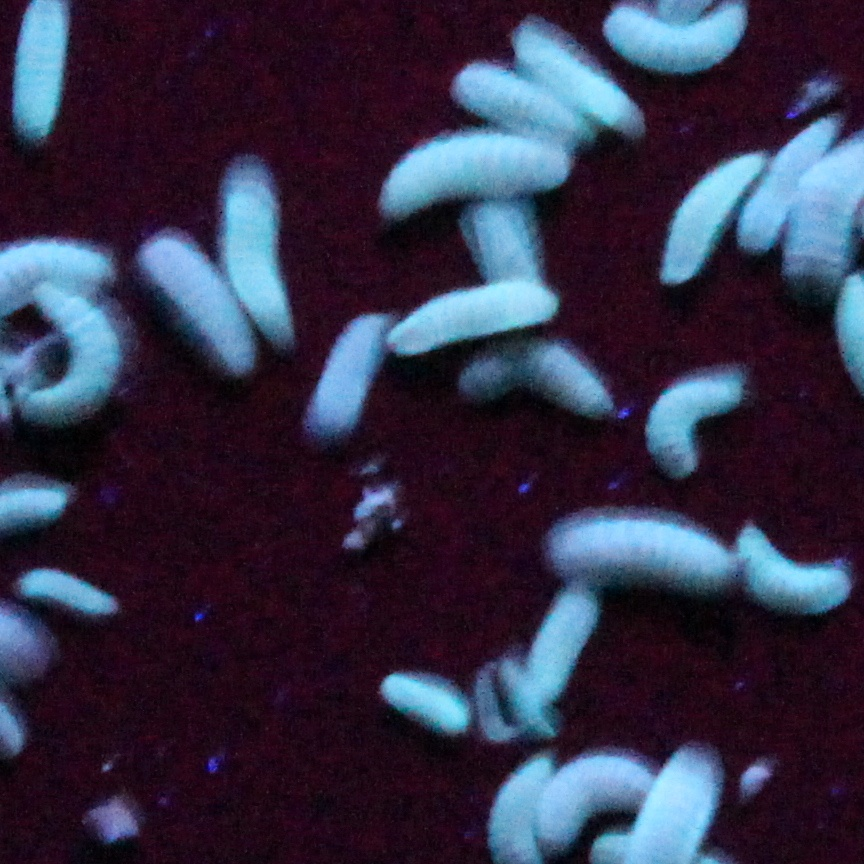larve: (374, 133, 567, 214), (144, 241, 256, 373), (665, 154, 765, 282), (27, 281, 117, 419), (739, 118, 834, 248), (512, 29, 634, 130), (385, 286, 558, 357), (453, 64, 593, 146), (550, 521, 735, 582), (222, 179, 290, 341), (461, 342, 611, 414), (538, 754, 655, 841), (605, 4, 746, 72), (309, 314, 387, 436), (739, 527, 849, 612), (645, 380, 742, 475), (527, 589, 598, 705), (470, 204, 537, 284), (380, 674, 467, 732), (19, 570, 115, 615)
